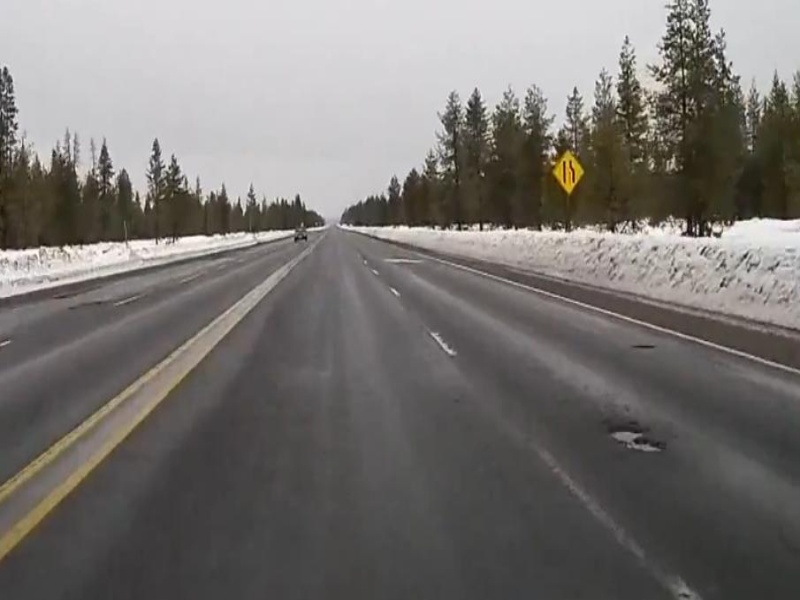pothole: (606, 416, 676, 460)
